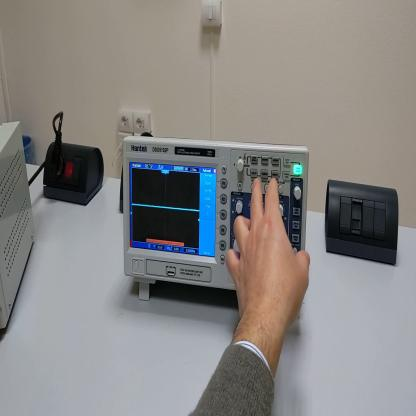hand: (228, 172, 310, 330)
oscilloscope: (121, 135, 313, 304)
power supply: (1, 120, 38, 336)
socket: (44, 143, 105, 207), (119, 168, 126, 215)
